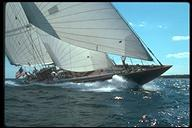sailboat: (5, 2, 173, 90)
sky: (148, 4, 188, 48)
water: (5, 88, 188, 125)
